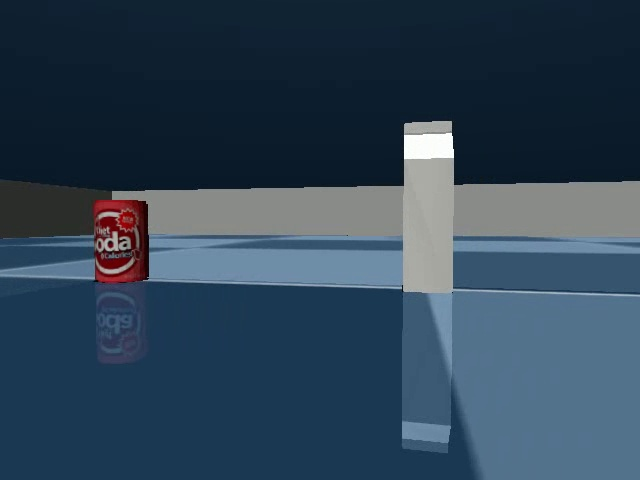can: (88, 195, 155, 289)
milk: (394, 112, 463, 301)
